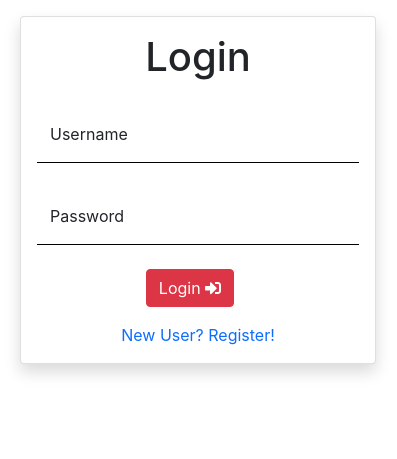
Scenario: Login Tests › should check for invalid username error
This screenshot has width=397, height=459.
Type "something" into the field labelled "Username" at (198, 134), box [37,105,359,163]
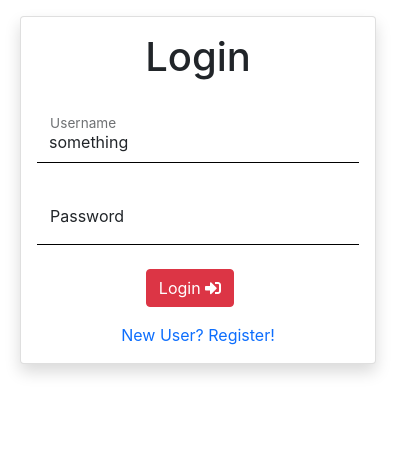
Type "something" into the password field labelled "Password" at (198, 216), box [37,187,359,245]
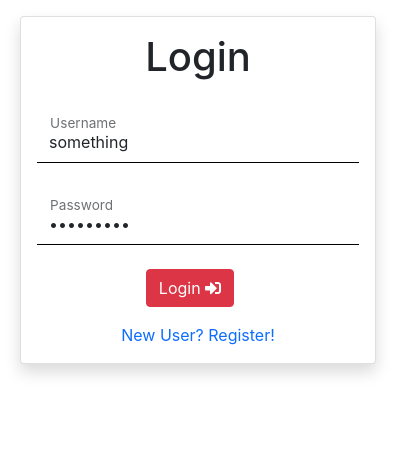
Click the button "Login" at (190, 288), box [146,269,234,307]
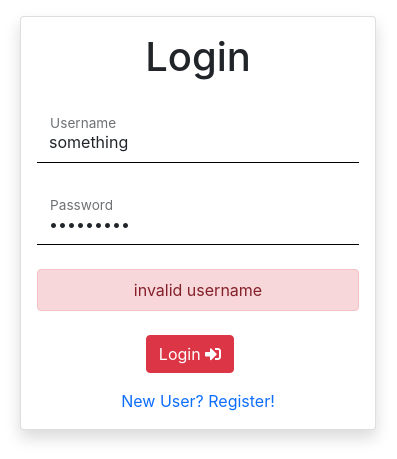
Check: the text "invalid username" is shown, box [37,269,359,311]
